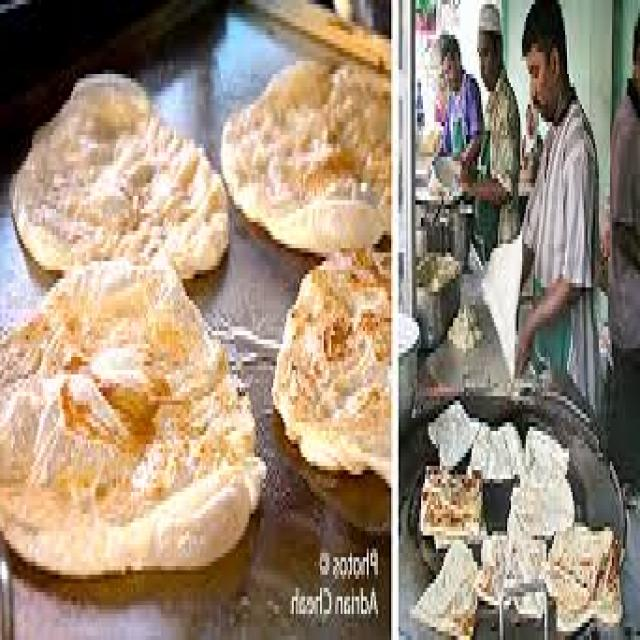Paratha: (8, 269, 234, 591), (25, 88, 205, 300), (218, 56, 394, 250), (271, 238, 393, 494), (541, 513, 625, 640), (413, 470, 478, 548)
